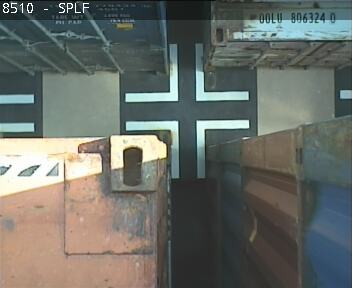groundmarker_1: (124, 43, 248, 104), (126, 119, 249, 178)
